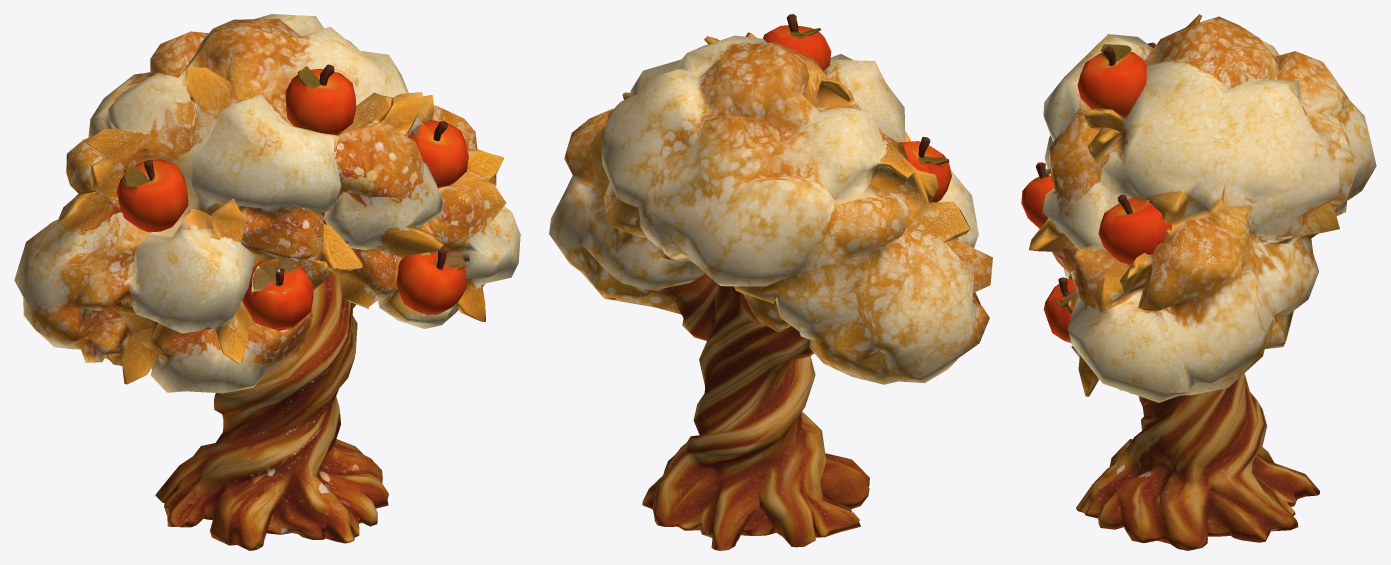
File: AW-HW-TREE-002-v0.2.glb
The picture shows the model from 3 angles, left to right: view 1: azimuth 30°, elevation 25°; view 2: azimuth 150°, elevation 25°; view 3: azimuth 270°, elevation 25°; orthographic projection. The views are drawn at different scales.
Parts seen in each view (by area): view 1: AW-HW-TREE-002_meter_ground_pivot; view 2: AW-HW-TREE-002_meter_ground_pivot; view 3: AW-HW-TREE-002_meter_ground_pivot.
Boxes of the visible parts, box(x1,y1,x2,y2) form: AW-HW-TREE-002_meter_ground_pivot: box(14, 14, 520, 550); AW-HW-TREE-002_meter_ground_pivot: box(549, 14, 992, 550); AW-HW-TREE-002_meter_ground_pivot: box(1021, 14, 1376, 550).
Size of the model in its own units: 4.44 by 4.5 by 3.08.
Materials: 1 (1 with a texture image).
